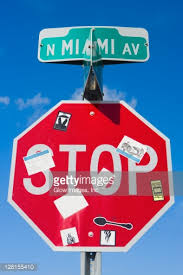stop_sign: (7, 100, 175, 252)
